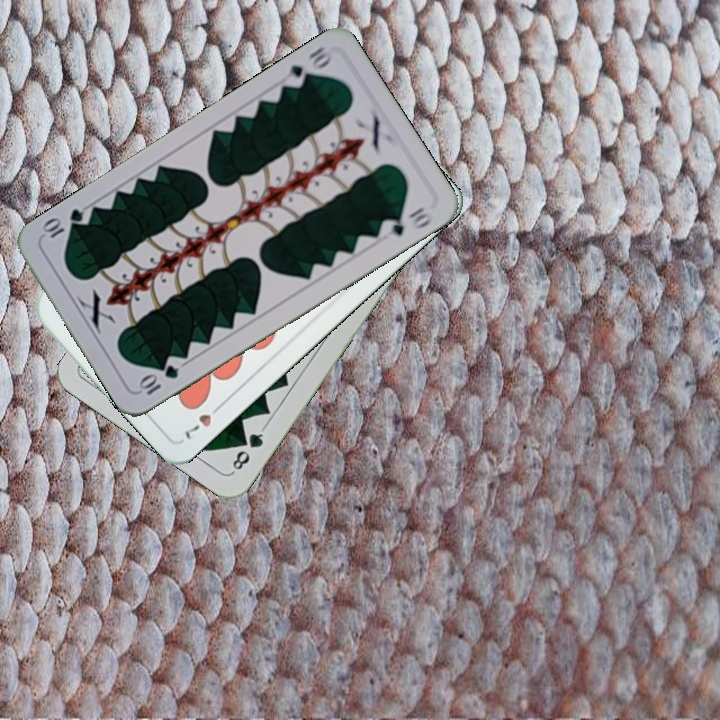G10: (285, 42, 337, 91), (135, 360, 181, 398)
G8: (228, 423, 267, 475)
H7: (181, 398, 227, 443)
